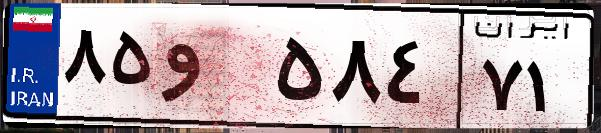1: (525, 38, 570, 115)
4: (385, 28, 445, 110)
5: (270, 28, 330, 110), (110, 28, 158, 98)
7: (475, 38, 525, 113)
8: (330, 28, 385, 110), (57, 26, 110, 100)
و: (158, 20, 270, 120)
